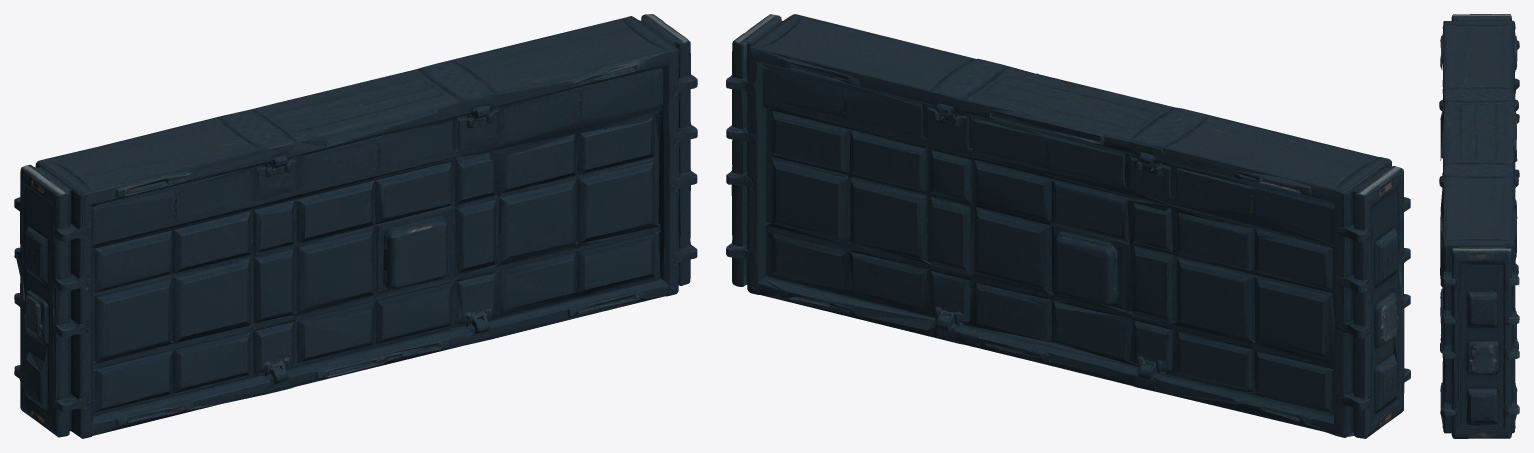
File: cyber-wall-segment.glb
3 renders of one model, left to right at view 1: azimuth 30°, elevation 25°; view 2: azimuth 150°, elevation 25°; view 3: azimuth 270°, elevation 25°, orthographic. The views are drawn at different scales.
Visible parts, largest first — view 1: mesh_node; view 2: mesh_node; view 3: mesh_node.
Part boxes in pixels (box(x1,y1,x2,y2)): mesh_node: box(14, 14, 697, 438); mesh_node: box(726, 14, 1410, 438); mesh_node: box(1439, 14, 1519, 438).
Bounding box in the file's own units: 1.9 × 0.6913 × 0.2657.
1 material, 1 textured.
